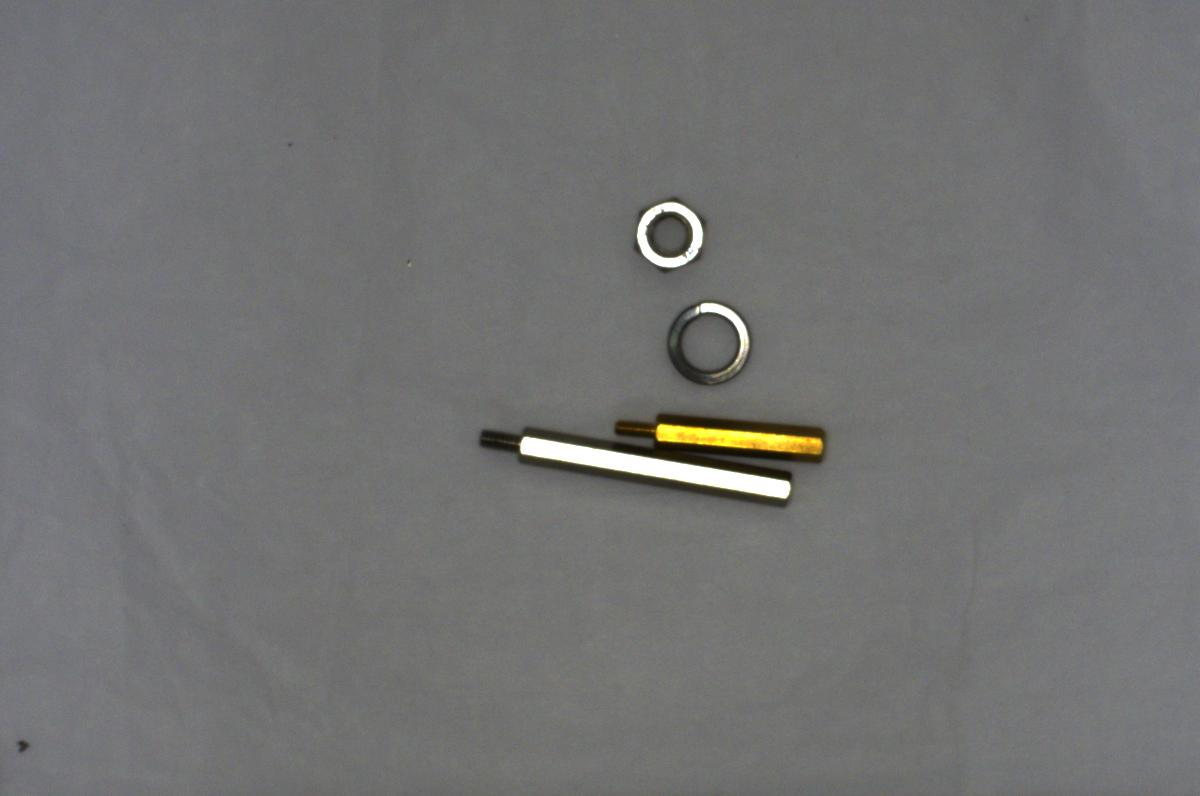Hexagon nut: (625, 194, 705, 276)
Hexagon pillar: (606, 407, 832, 469)
Hexagonal steel column: (466, 420, 801, 514)
Spring washer: (661, 294, 764, 394)
